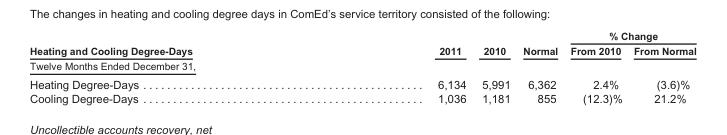table: (29, 29, 695, 104)
table column: (29, 29, 314, 104), (314, 29, 473, 104), (627, 29, 695, 104), (563, 29, 627, 104), (516, 29, 563, 104), (473, 29, 516, 104)
table column header: (29, 29, 695, 57)
table projected row header: (29, 57, 695, 74)
table row: (29, 57, 695, 74), (29, 74, 695, 90), (29, 42, 695, 57), (29, 90, 695, 104), (29, 29, 695, 42)
table spanning cell: (29, 29, 314, 57), (314, 29, 473, 57), (563, 29, 695, 42), (516, 29, 563, 57), (473, 29, 516, 57)
